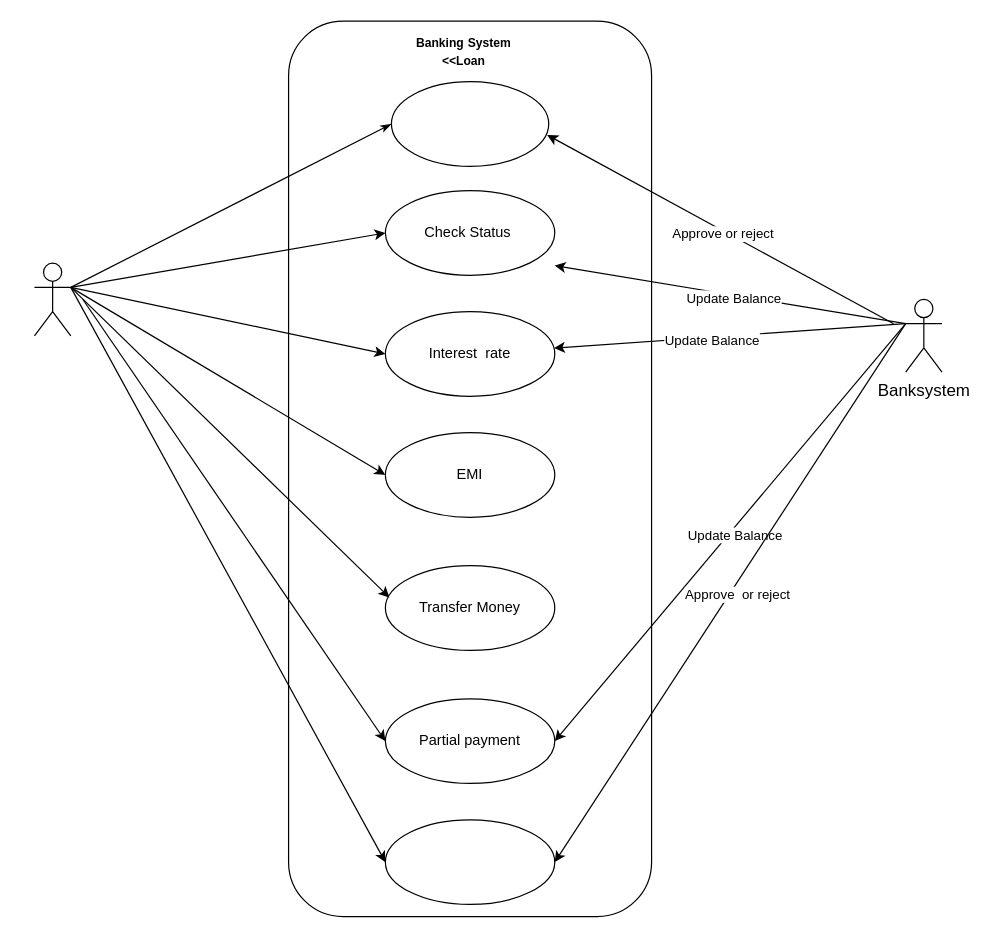
Some shapes in this 991 by 938 pixel diagram are drawn without their labels. The centre of each missing label's shape, as x and y in pixels:
"Apply Loan" goes at (x=469, y=123).
"Close Loan" goes at (x=469, y=861).
"Customer" goes at (x=52, y=299).
